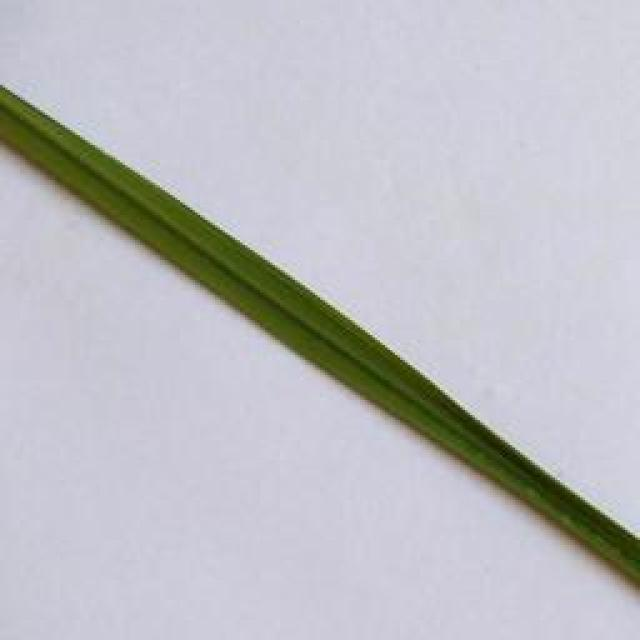Healthy-Plant: (0, 82, 640, 583)
